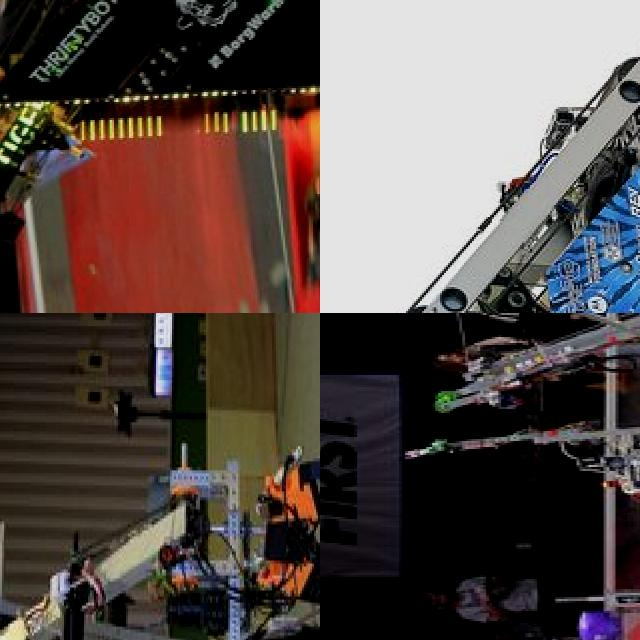FRC-Robots: (0, 0, 320, 313), (320, 0, 640, 313), (0, 337, 320, 640), (377, 412, 640, 576), (416, 313, 640, 430)
